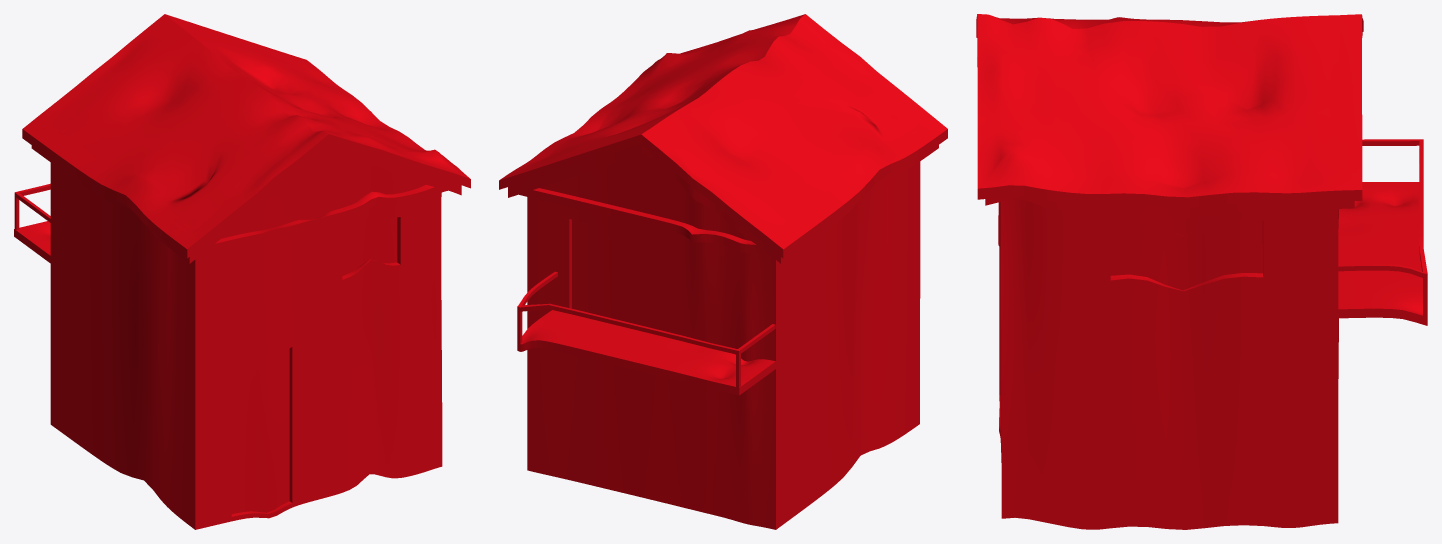
File: broken_house_1.fbx
3 renders of one model, left to right at view 1: azimuth 30°, elevation 25°; view 2: azimuth 150°, elevation 25°; view 3: azimuth 270°, elevation 25°, orthographic. The views are drawn at different scales.
Visible parts, largest first — view 1: house; view 2: house; view 3: house.
Part boxes in pixels (x1=…): house: x1=14, y1=14, x2=470, y2=529; house: x1=499, y1=14, x2=947, y2=529; house: x1=976, y1=14, x2=1427, y2=529.
Bounding box in the file's own units: 1088 × 1392 × 1277.
